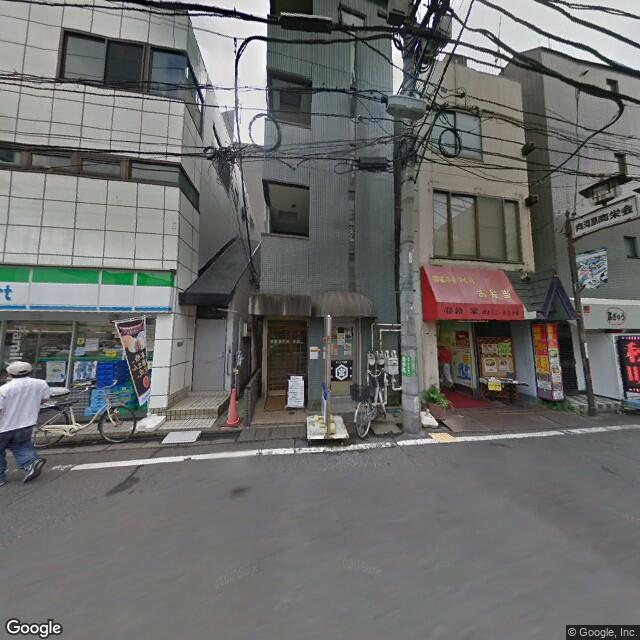family_mart: (1, 262, 172, 317)
